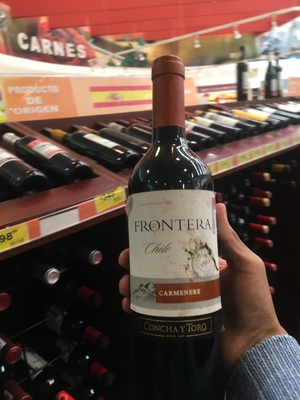frontera carmenere: (122, 56, 254, 397)
